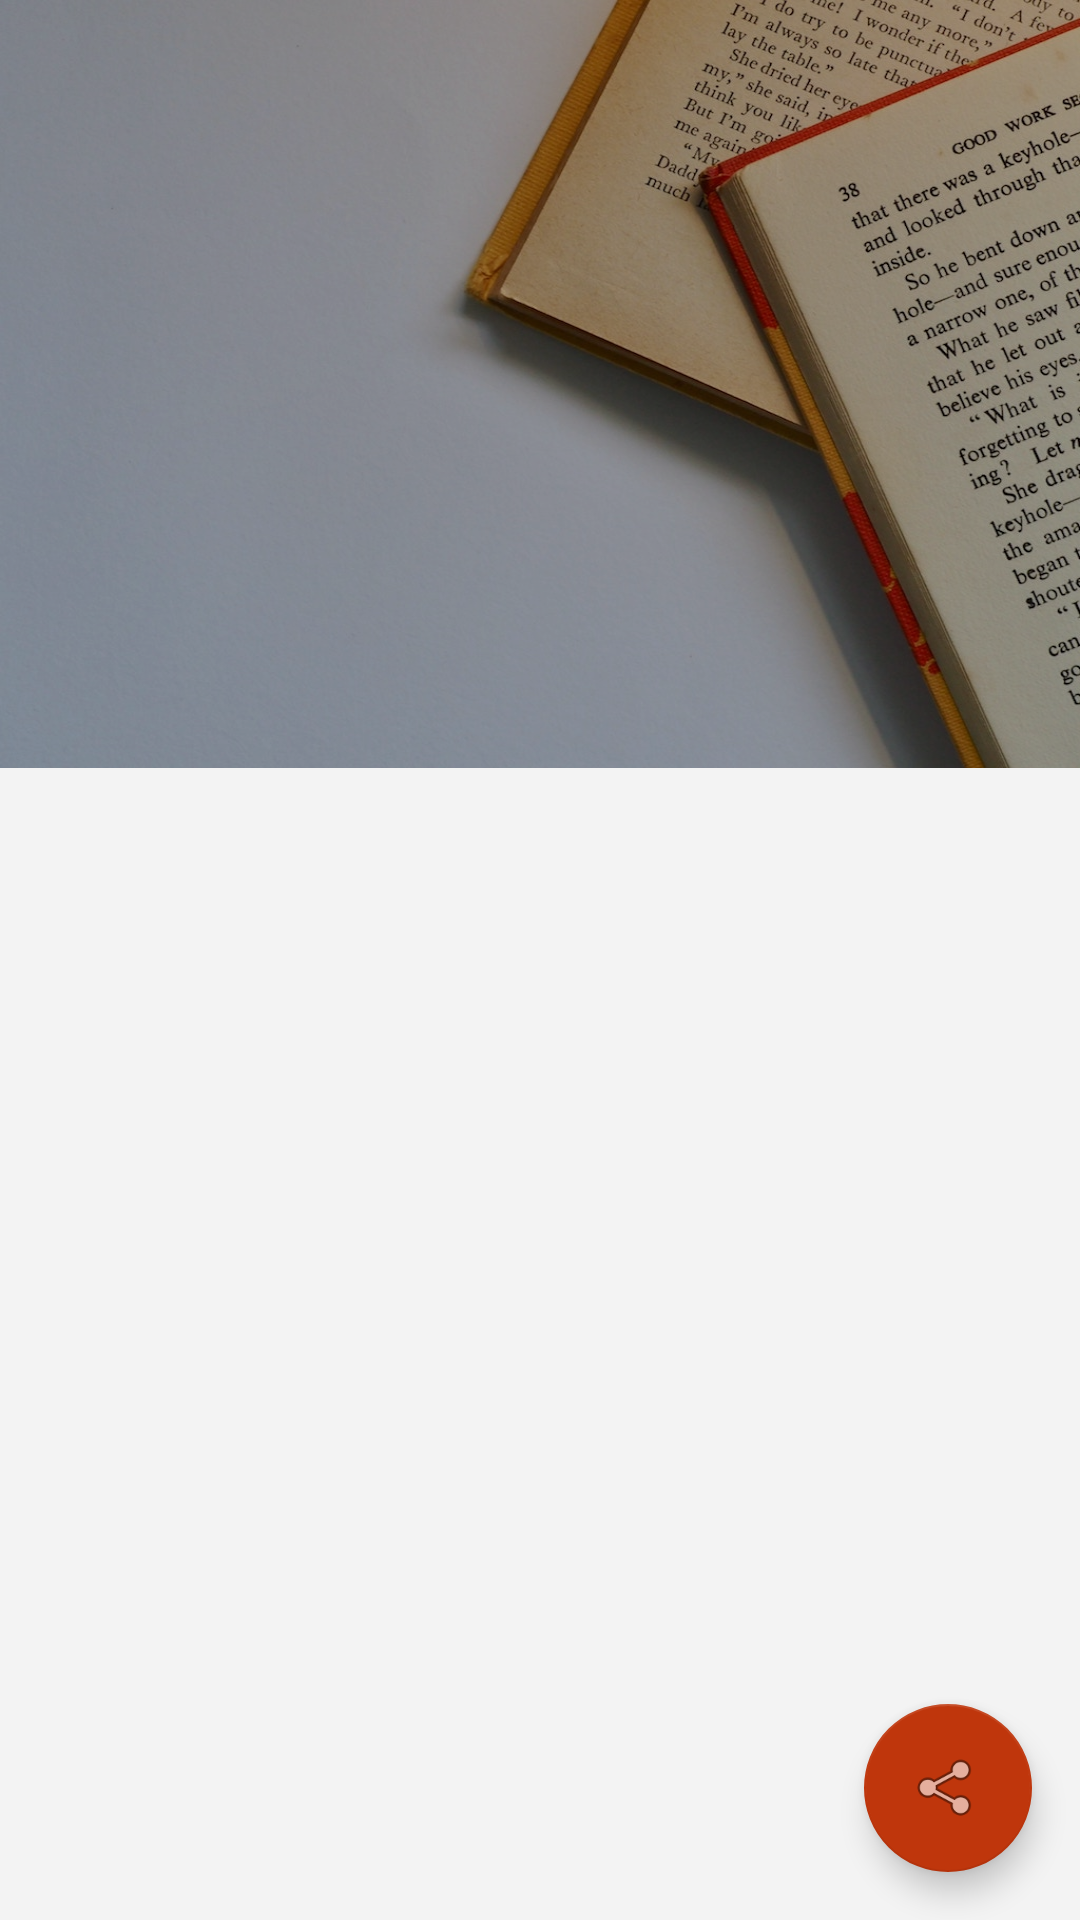

Where to tap for icons on this 1080px×1920px app screen, as [x,y]:
share: [948,1788]
